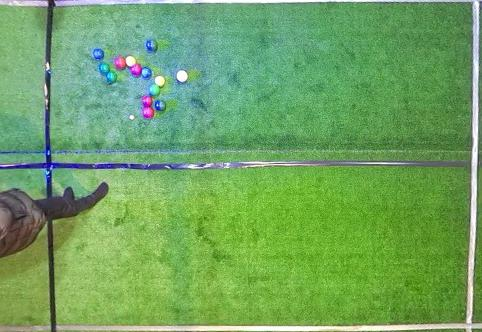blue: (141, 67, 152, 78), (93, 49, 104, 59)
green: (146, 40, 158, 51), (155, 100, 166, 111), (106, 72, 117, 82), (149, 85, 159, 95), (99, 64, 110, 73)
red: (177, 70, 189, 82), (115, 57, 126, 69), (142, 95, 153, 107), (143, 107, 154, 118), (132, 64, 142, 76)
vline: (1, 1, 53, 198), (1, 219, 58, 331), (464, 1, 481, 331)
white: (129, 115, 134, 120)
yellow: (126, 56, 136, 67), (155, 76, 165, 86)
